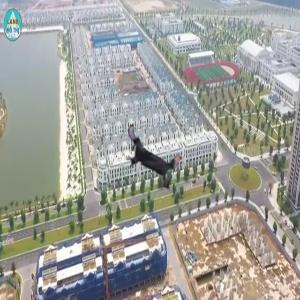drone: (115, 127, 191, 203)
